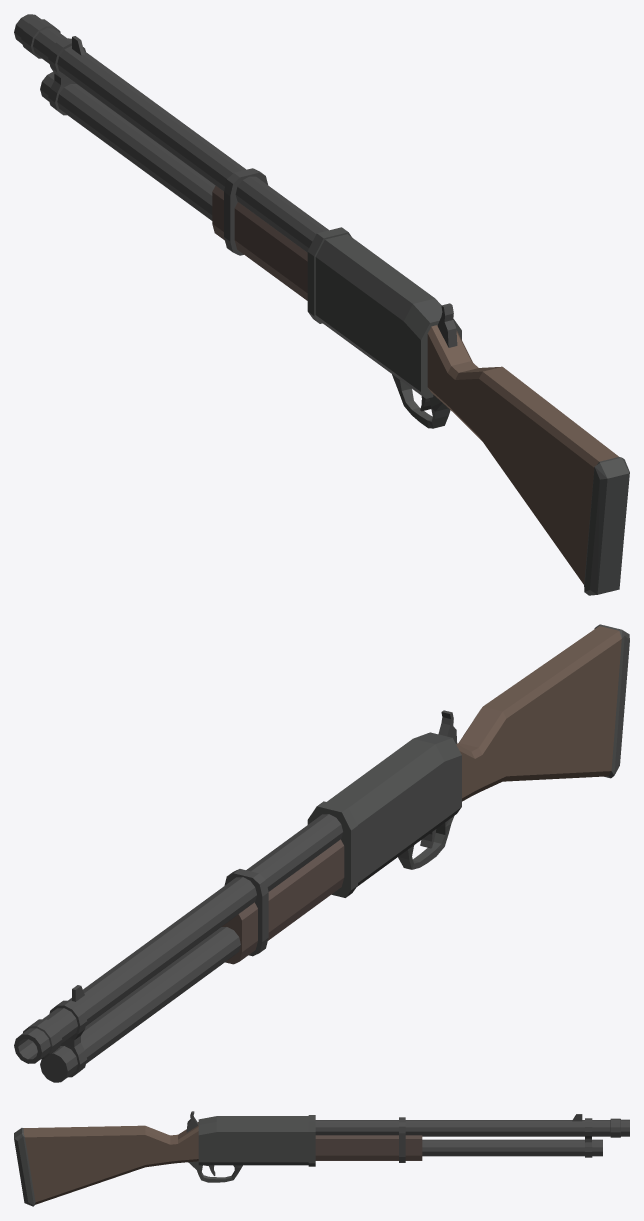
File: shotgun.glb
3 views of the same model, one above another, from view 1: azimuth 30°, elevation 25°; view 2: azimuth 150°, elevation 25°; view 3: azimuth 270°, elevation 25° (orthographic). The views are drawn at different scales.
Visible parts, largest first — view 1: GunMesh; view 2: GunMesh; view 3: GunMesh.
Part boxes in pixels (x1,y1,x2,y2): GunMesh: (14, 14, 629, 595); GunMesh: (14, 624, 629, 1082); GunMesh: (14, 1111, 629, 1206).
Size of the model in its own units: 0.0426 by 0.1641 by 1.
